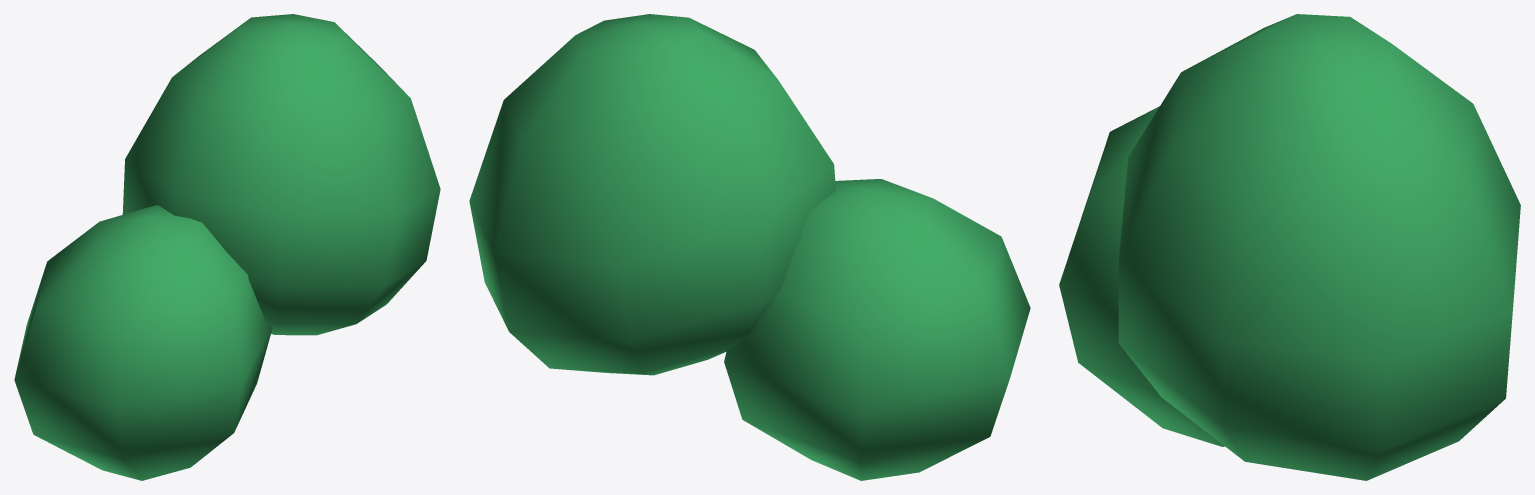
File: Tree_Top_B_03_LOD2.gltf
3 renders of one model, left to right at view 1: azimuth 30°, elevation 25°; view 2: azimuth 150°, elevation 25°; view 3: azimuth 270°, elevation 25°, orthographic. The views are drawn at different scales.
Visible parts, largest first — view 1: Tree_Top_B_03_LOD2_Cylinder.676; view 2: Tree_Top_B_03_LOD2_Cylinder.676; view 3: Tree_Top_B_03_LOD2_Cylinder.676.
Boxes of the visible parts, <box> form: Tree_Top_B_03_LOD2_Cylinder.676: <box>14,14,440,480</box>; Tree_Top_B_03_LOD2_Cylinder.676: <box>469,14,1030,480</box>; Tree_Top_B_03_LOD2_Cylinder.676: <box>1059,14,1520,480</box>.
Bounding box in the file's own units: 9.27 × 7.53 × 6.26.
1 material, 1 textured.
